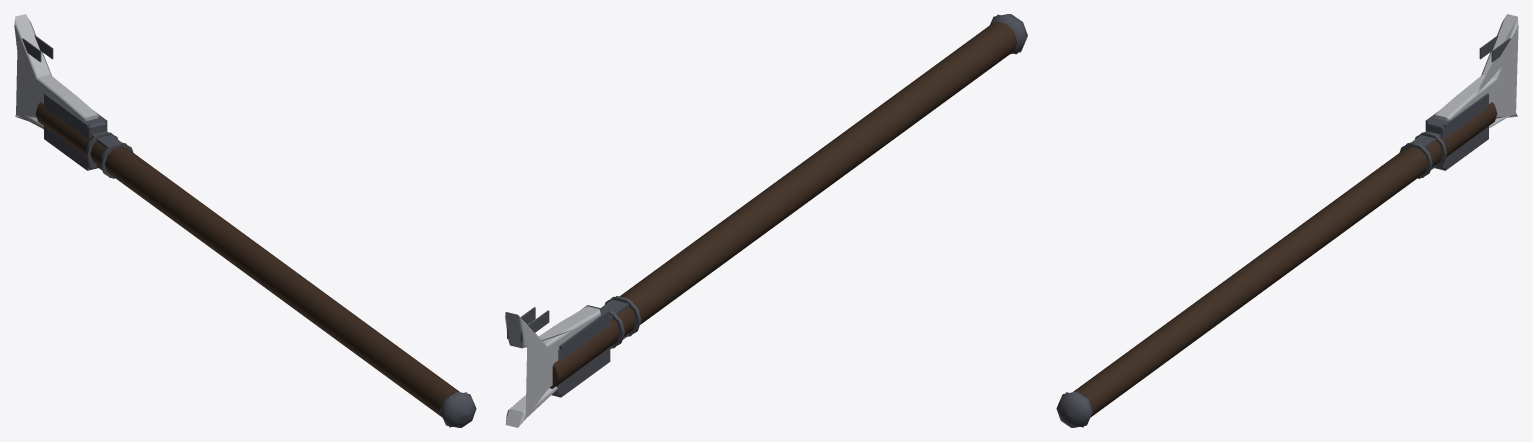
File: m_axe.glb
3 renders of one model, left to right at view 1: azimuth 30°, elevation 25°; view 2: azimuth 150°, elevation 25°; view 3: azimuth 330°, elevation 25°, orthographic. The views are drawn at different scales.
Visible parts, largest first — view 1: L0, L1; view 2: L0, L1; view 3: L0, L1.
Boxes of the visible parts, bbox=[...] form: L0: bbox=[14, 14, 476, 427]; L1: bbox=[15, 93, 475, 427]; L0: bbox=[505, 14, 1027, 427]; L1: bbox=[522, 14, 1018, 422]; L0: bbox=[1056, 14, 1518, 427]; L1: bbox=[1057, 18, 1517, 427].
Bounding box in the file's own units: 0.0412 × 0.1148 × 0.9244.
